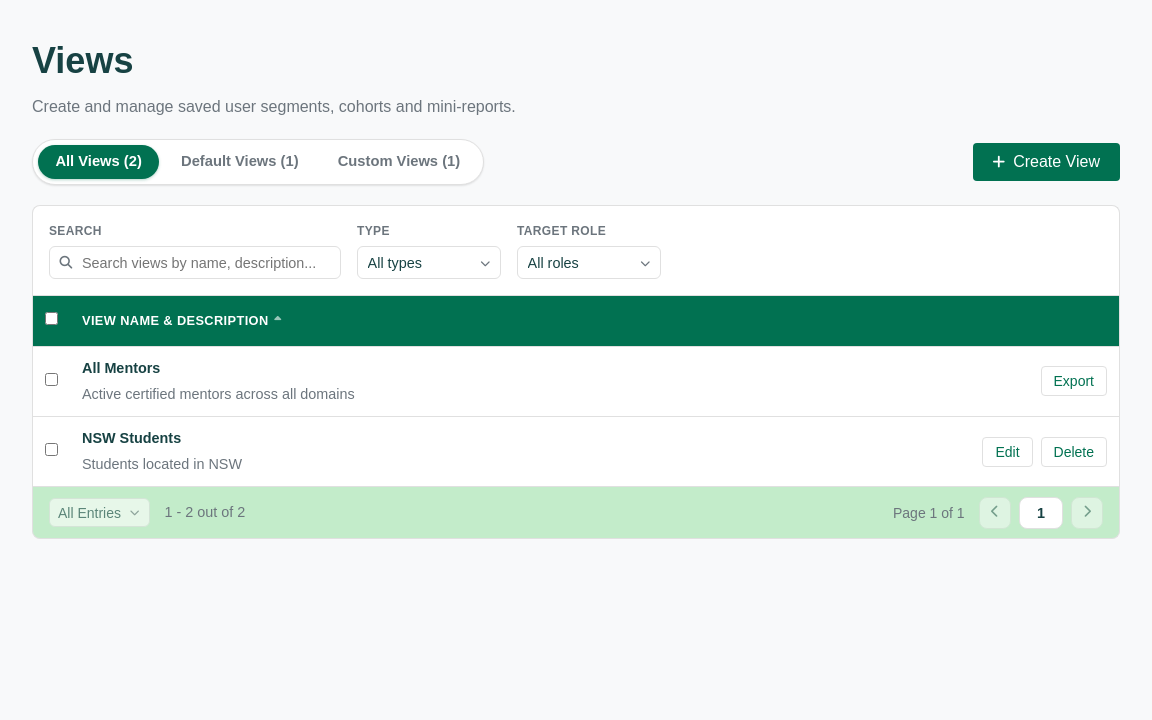
Test: AdminViewsDirectoryPage › keeps the Type dropdown in sync with the tabs
The width and height of the screenshot is (1152, 720).
Press the mouse on the element with id "view-type-filter" at [429, 262], box [357,246,501,279]
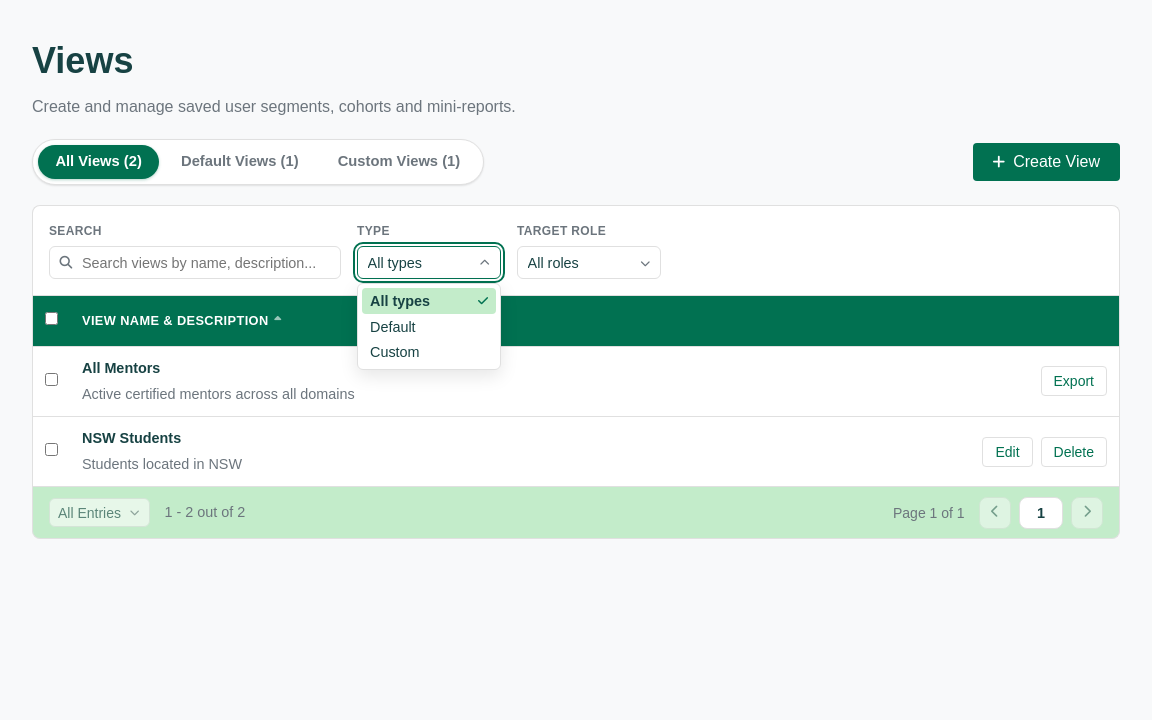
Press the mouse on the option "Custom" at [395, 352], box [370,344,420,360]
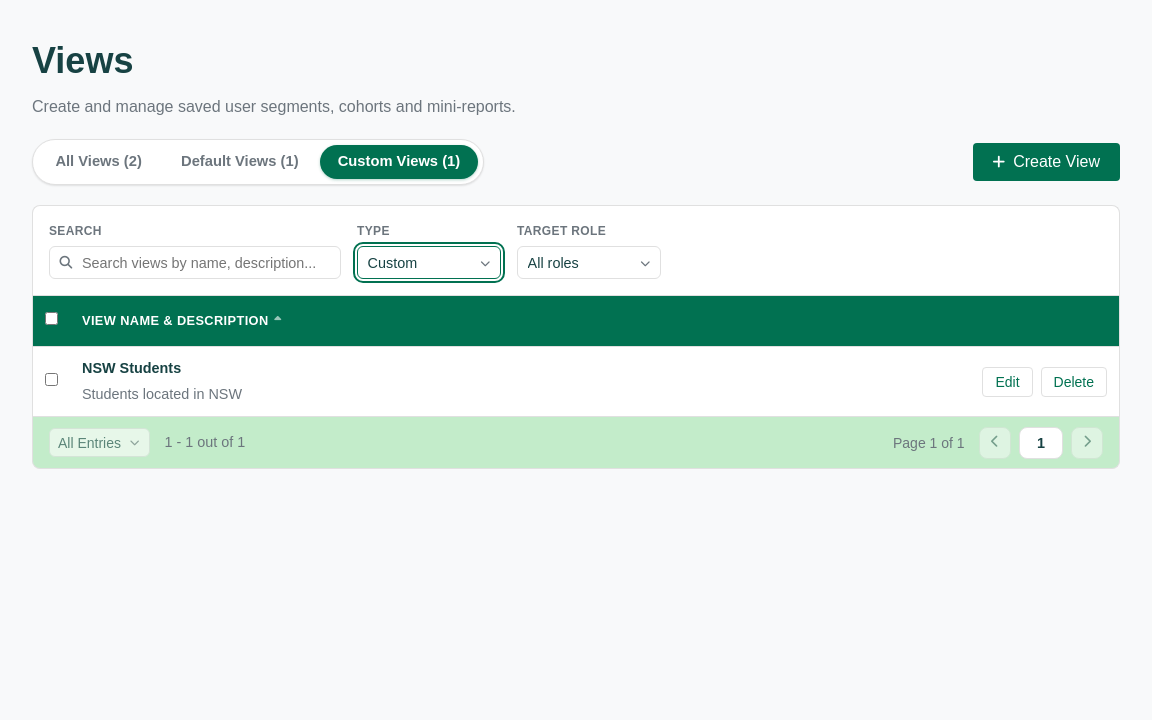
Expected: the text "NSW Students" is shown, [82,360,181,376]
Result: the text "All Mentors" is gone
